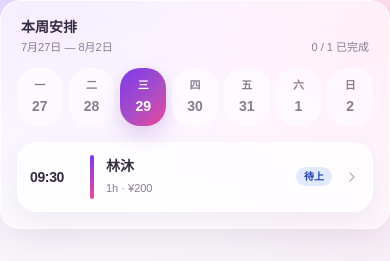
Test: ScheduleBoard mobile agenda › defaults to today and switches the visible course list by date
Check: the element with test id "mobile-course-list" shows "林沐", box [17,142,373,212]
Check: the element with test id "mobile-course-list" does not show "周宁"
What coordinates should you click on to do the following:
click the button "四 30"
I would click on:
 (195, 96)
Its box is [172,68,218,126].
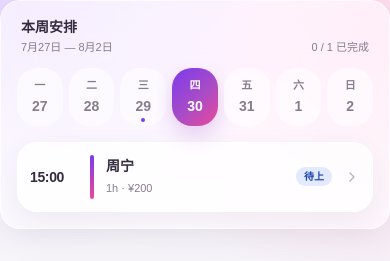
Check: the element with test id "mobile-course-list" shows "周宁", box [17,142,373,212]
Check: the button with test id "mobile-course-list" no longer shows "林沐"
